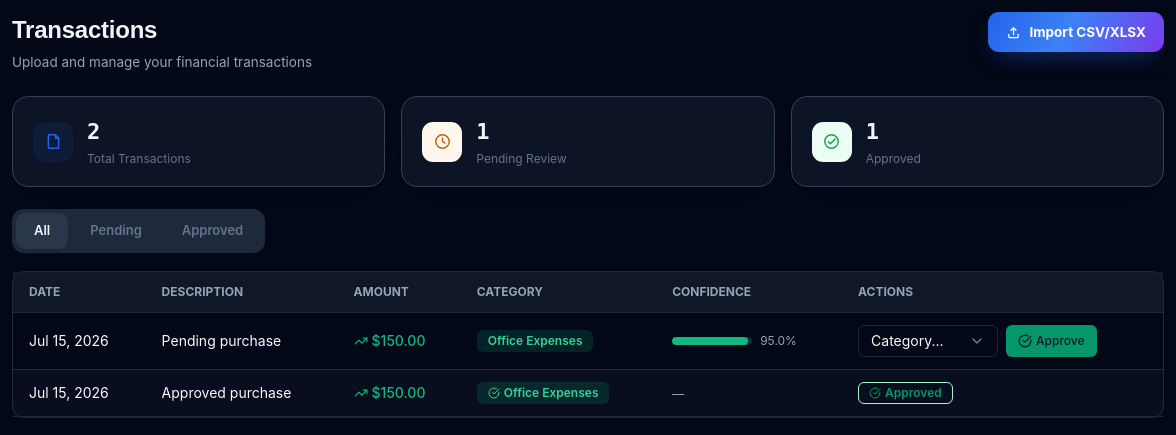
Scenario: FinlyHubSpending › filters by tab
This screenshot has width=1176, height=435.
expect the text "Pending purchase" is shown: met, box x1=146 y1=312 x2=338 y2=369
expect the text "Approved purchase" is shown: met, box x1=146 y1=369 x2=338 y2=416
What coordinates should you click on to do the following:
click the button "Approved"
I would click on:
 (212, 231)
Its box is x1=164 y1=213 x2=261 y2=249.
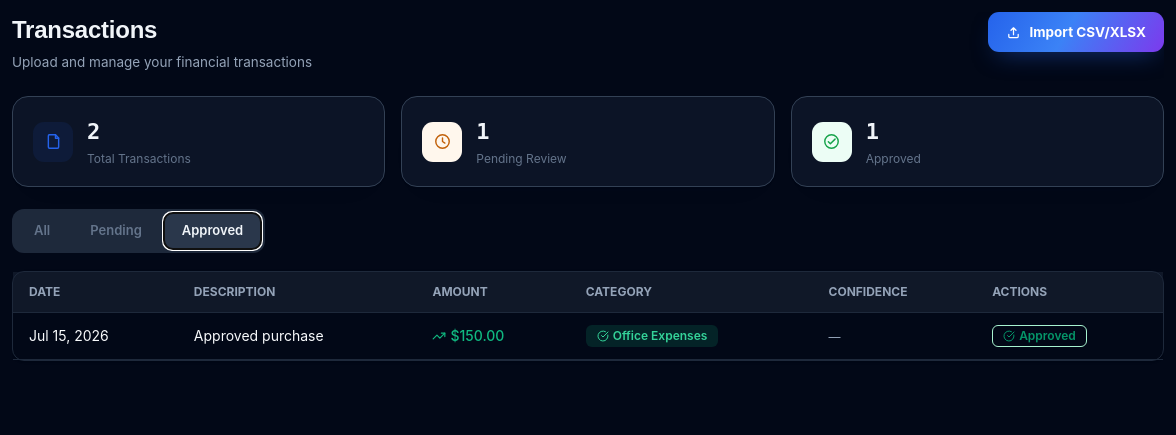
expect the text "Pending purchase" is gone: met
